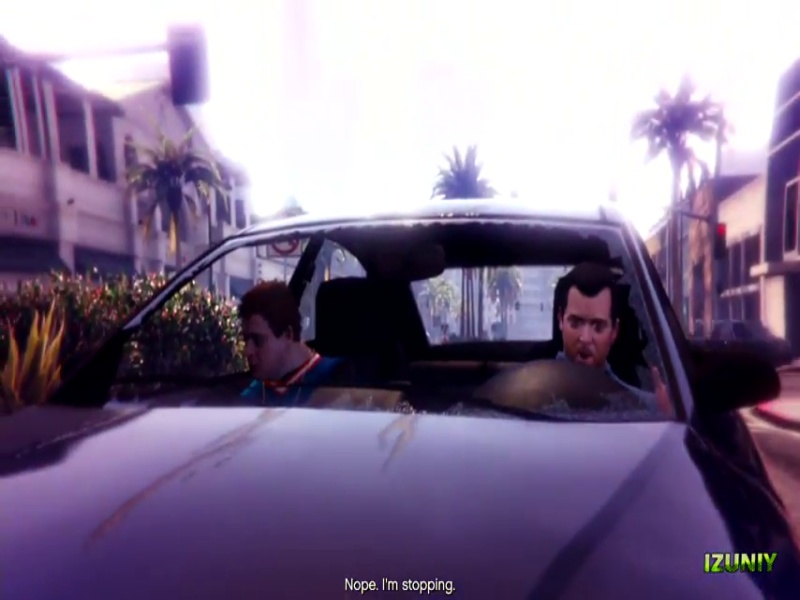licenseplate: (340, 230, 400, 282)
